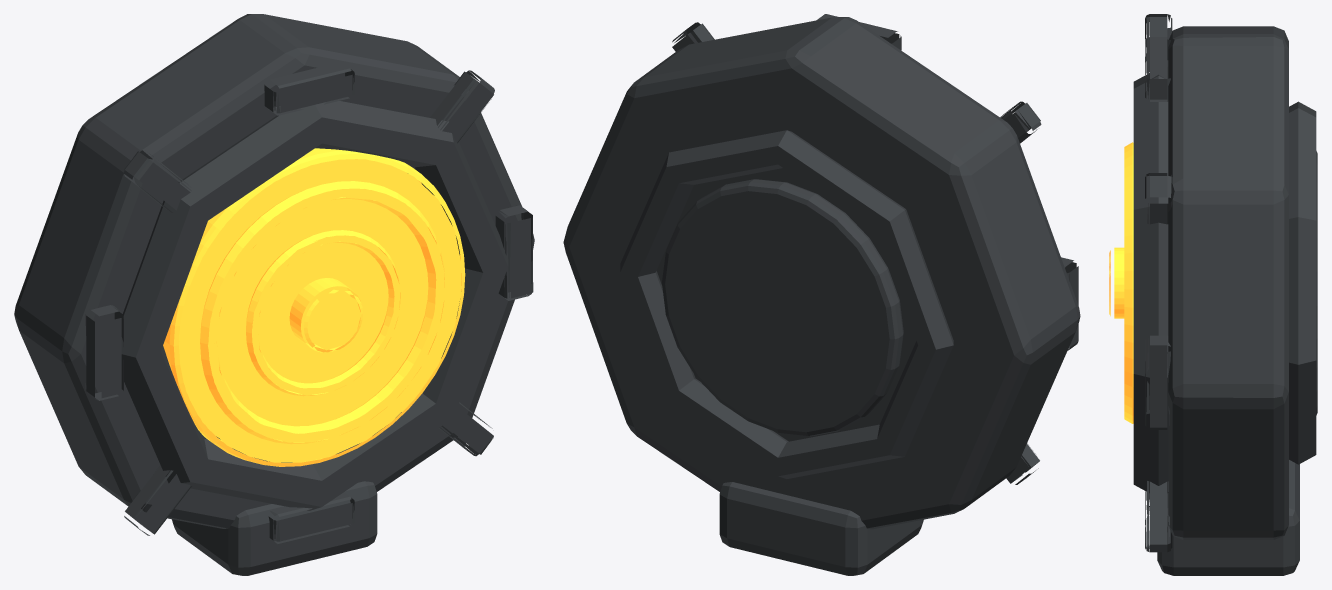
Rendered from relic-sunstone-lens-focal-lod1.glb.
The picture shows the model from 3 angles, left to right: view 1: azimuth 30°, elevation 25°; view 2: azimuth 150°, elevation 25°; view 3: azimuth 270°, elevation 25°; orthographic projection.
Parts seen in each view (by area): view 1: xenovoya_runtime_asset; view 2: xenovoya_runtime_asset; view 3: xenovoya_runtime_asset.
Boxes of the visible parts, x1,y1,x2,y2 form: xenovoya_runtime_asset: (14, 14, 534, 575); xenovoya_runtime_asset: (563, 14, 1080, 575); xenovoya_runtime_asset: (1109, 14, 1317, 575).
Size of the model in its own units: 1.98 by 2.05 by 0.7601.
